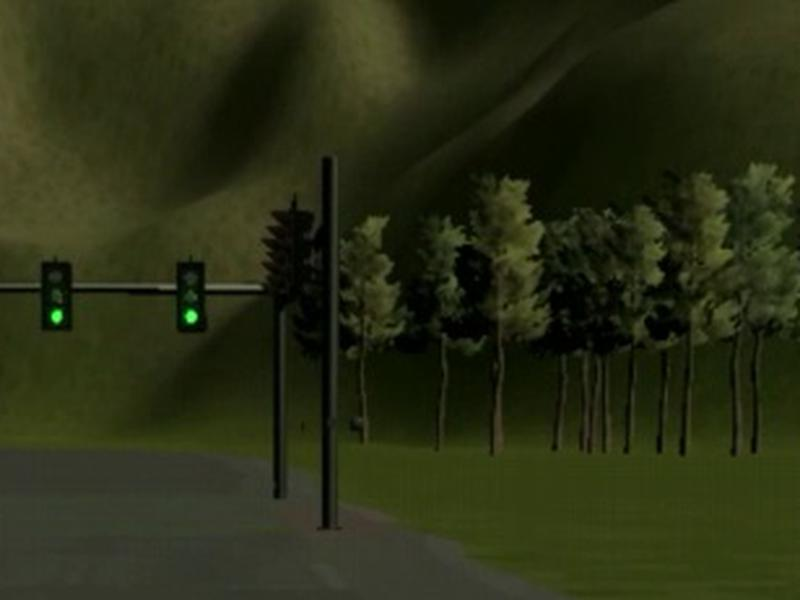Green: (40, 261, 73, 332), (176, 261, 205, 333)
